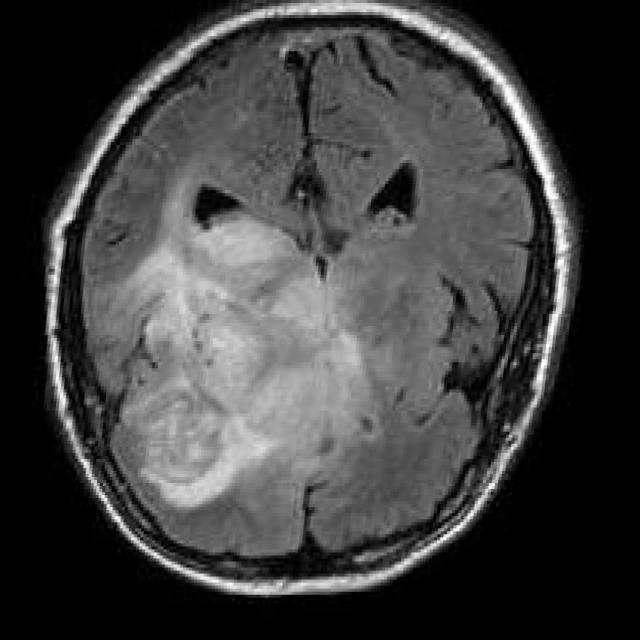Tumor: (92, 226, 381, 510)
